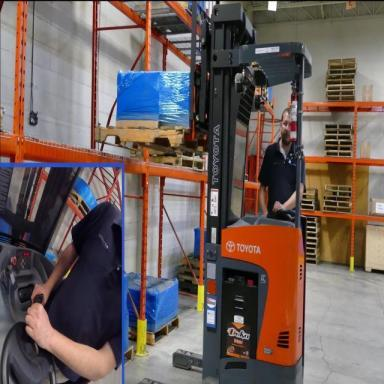forklift: (191, 0, 312, 384)
